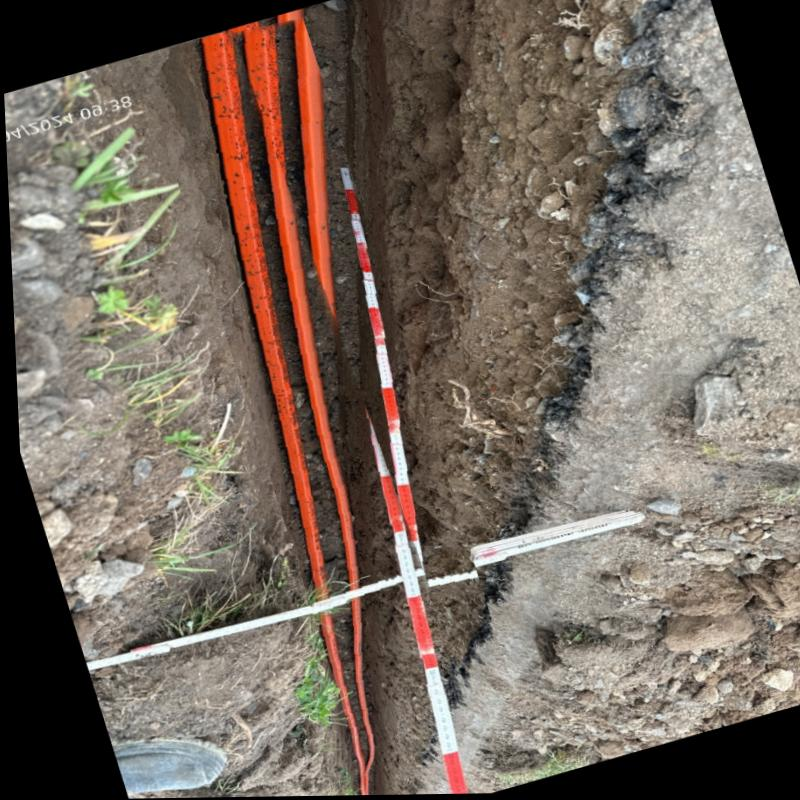Orang-Speednetrohrchen: (207, 28, 348, 726), (293, 16, 366, 735)
